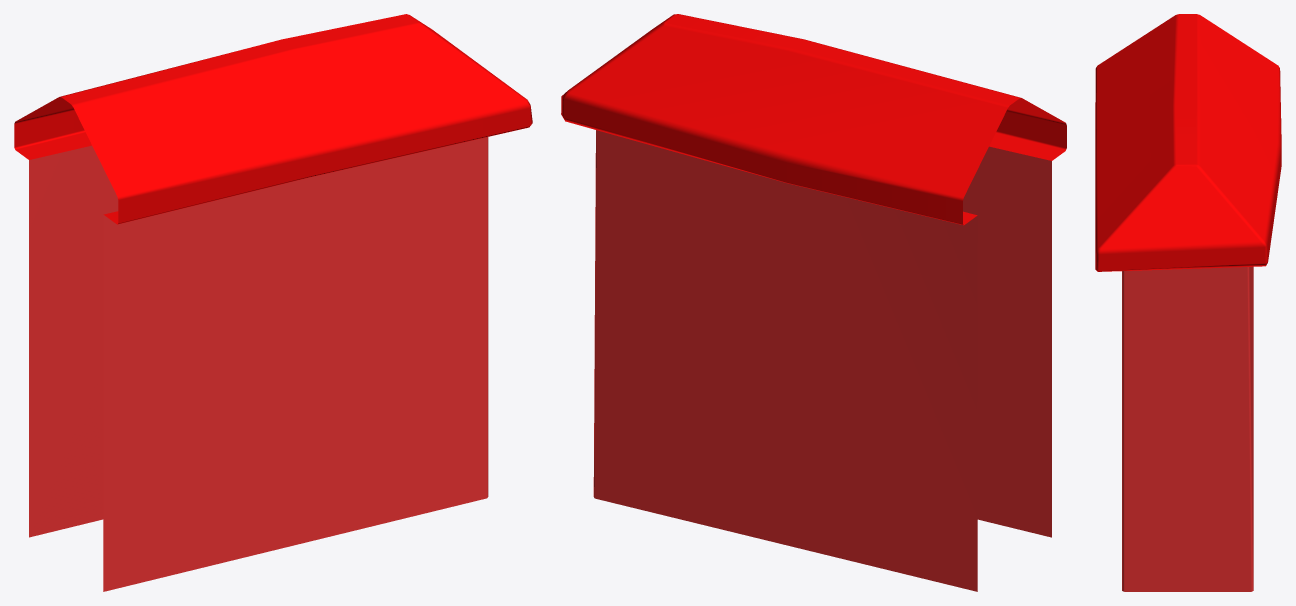
The model's file is Parapet_End.fbx.
3 renders of one model, left to right at view 1: azimuth 30°, elevation 25°; view 2: azimuth 150°, elevation 25°; view 3: azimuth 270°, elevation 25°, orthographic. The views are drawn at different scales.
Visible parts, largest first — view 1: Parapet_End VC; view 2: Parapet_End VC; view 3: Parapet_End VC.
Boxes of the visible parts, left/top/right/bottom form: Parapet_End VC: left=14, top=14, right=532, bottom=591; Parapet_End VC: left=561, top=14, right=1066, bottom=591; Parapet_End VC: left=1095, top=14, right=1281, bottom=591.
Size of the model in its own units: 162 by 174 by 70.8.
